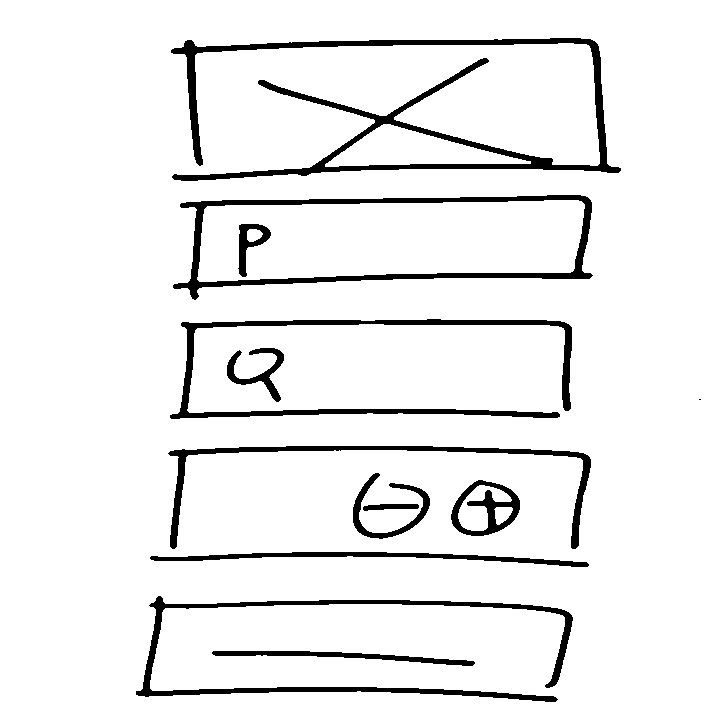button: (140, 593, 580, 709)
inline stepper bar: (151, 443, 598, 576)
paragraph: (171, 191, 600, 299)
picture: (163, 37, 630, 187)
search bar: (166, 315, 583, 424)
